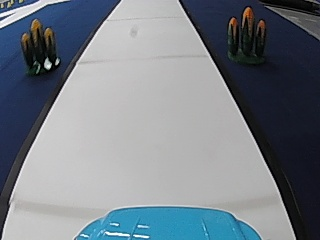corn: (224, 3, 268, 66), (21, 16, 60, 74)
